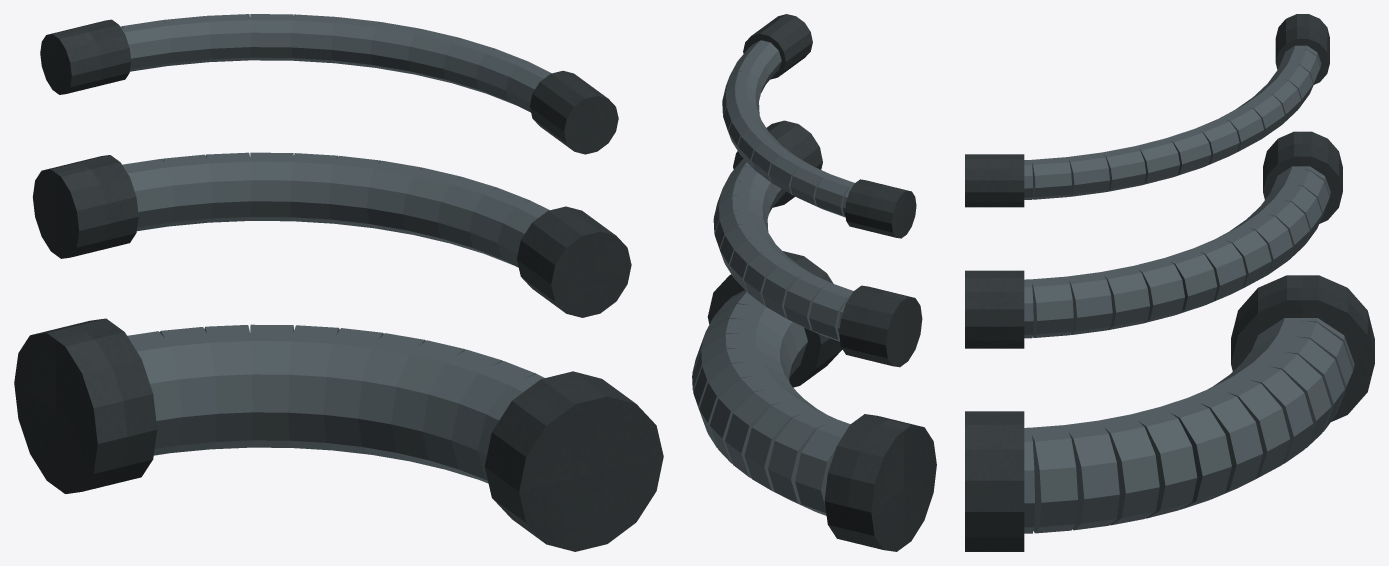
The model's file is PipeElbow.glb.
The picture shows the model from 3 angles, left to right: view 1: azimuth 30°, elevation 25°; view 2: azimuth 150°, elevation 25°; view 3: azimuth 270°, elevation 25°; orthographic projection. The views are drawn at different scales.
Parts seen in each view (by area): view 1: PipeElbow__BlackenedSteel__mesh, PipeElbow__Powdercoat__mesh; view 2: PipeElbow__BlackenedSteel__mesh, PipeElbow__Powdercoat__mesh; view 3: PipeElbow__BlackenedSteel__mesh, PipeElbow__Powdercoat__mesh.
Boxes of the visible parts, x1=… form: PipeElbow__BlackenedSteel__mesh: x1=120, y1=14, x2=551, y2=483; PipeElbow__Powdercoat__mesh: x1=14, y1=19, x2=663, y2=551; PipeElbow__BlackenedSteel__mesh: x1=692, y1=40, x2=854, y2=515; PipeElbow__Powdercoat__mesh: x1=707, y1=14, x2=936, y2=551; PipeElbow__BlackenedSteel__mesh: x1=1024, y1=45, x2=1354, y2=533; PipeElbow__Powdercoat__mesh: x1=965, y1=14, x2=1374, y2=551.
Size of the model in its own units: 0.3457 by 0.3616 by 0.3457.
Materials: 2 (1 with a texture image).
